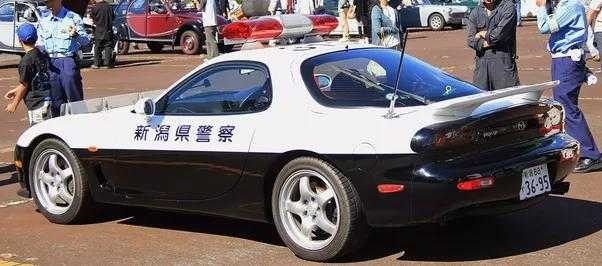Police Car: (52, 13, 574, 266)
